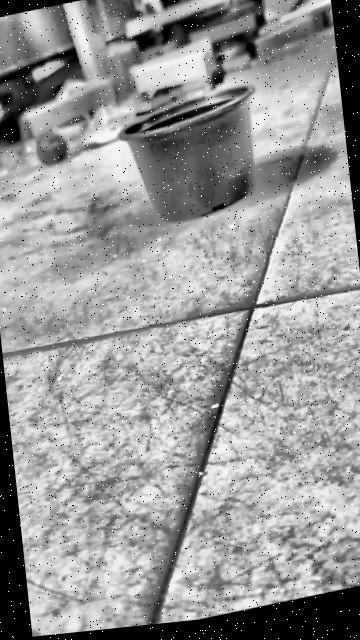pot: (116, 81, 266, 233)
